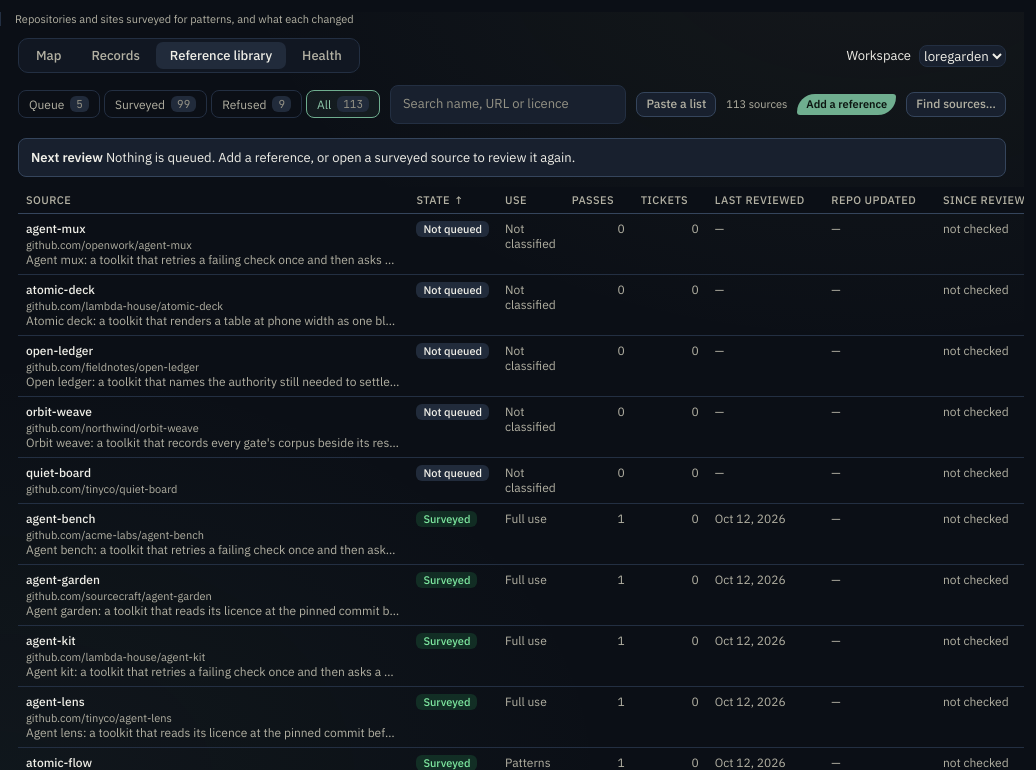
Scenario: the five states › offers to clear a search that matches nothing
The width and height of the screenshot is (1036, 770).
Type "zzz" into the search field named "Search sources" at point(508, 104), box [390, 85, 626, 124]
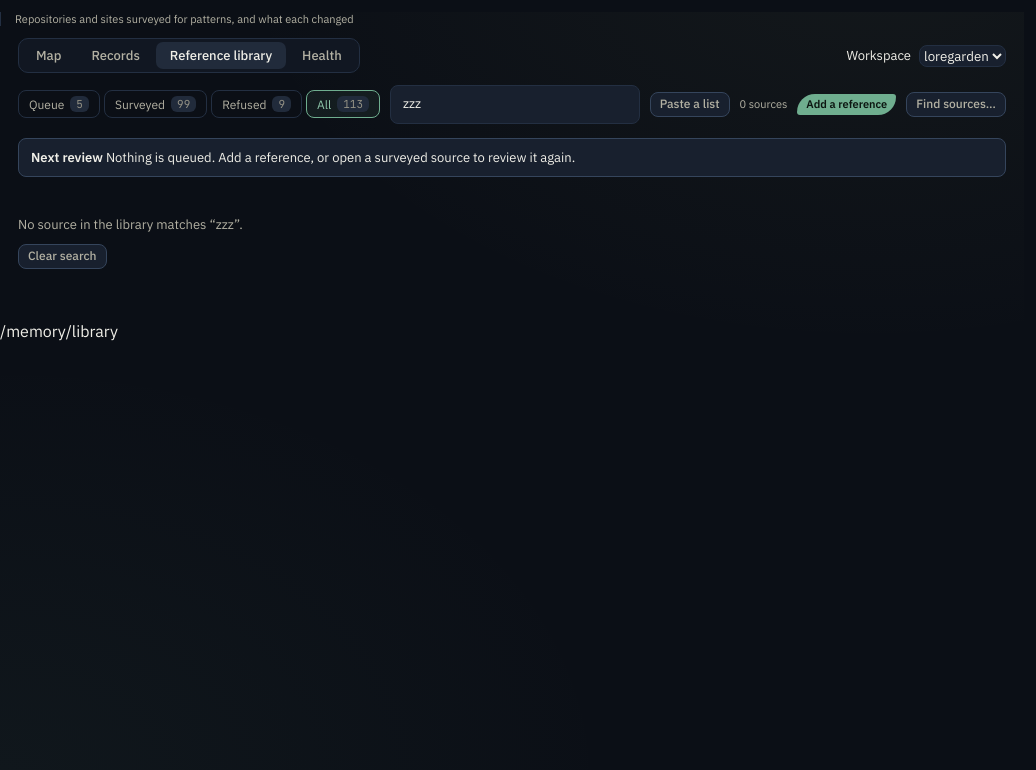
Check: the text "No source in the library matches “zzz”." is shown, box [18, 215, 243, 234]
Click the button "Clear search" at point(62, 256), box [18, 244, 106, 269]
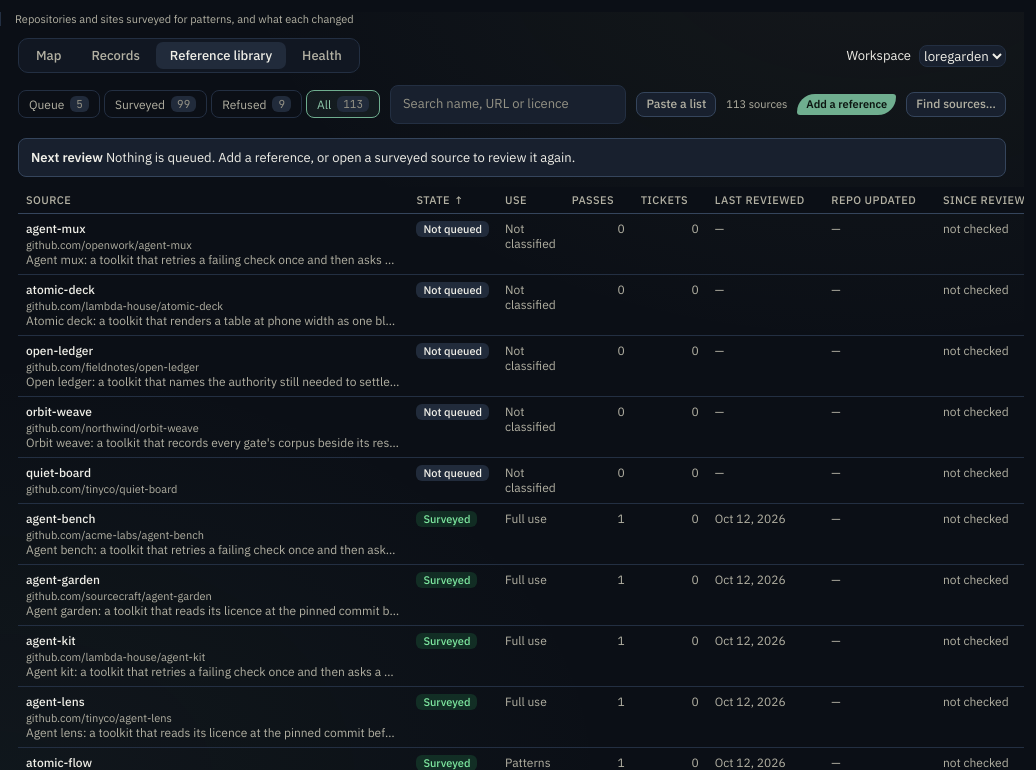
Check: the number of rows is 114
